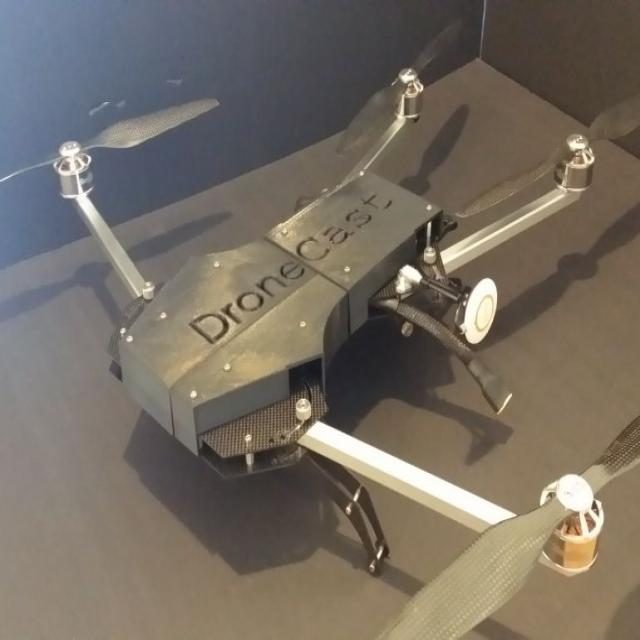drone: (6, 56, 640, 640)
